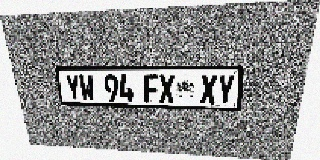4: (118, 74, 134, 102)
9: (103, 74, 120, 102)
F: (143, 74, 159, 103)
W: (78, 74, 95, 101)
X: (200, 75, 218, 104), (159, 74, 175, 103)
Y: (216, 75, 235, 105), (65, 74, 82, 101)
